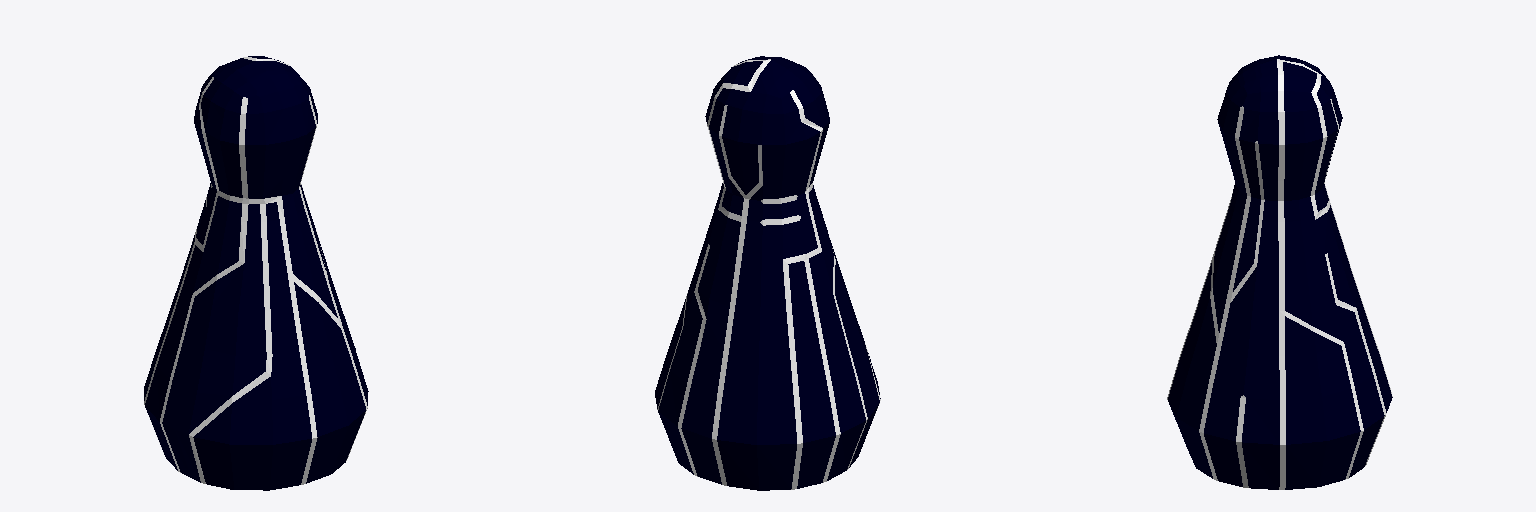
File: chipwhite.obj
3 views of the same model, side by side, from view 1: azimuth 30°, elevation 25°; view 2: azimuth 150°, elevation 25°; view 3: azimuth 270°, elevation 25° (orthographic).
Parts seen in each view (by area): view 1: white_Куб.040; view 2: white_Куб.040; view 3: white_Куб.040.
Part boxes in pixels (left/top/right/bottom): white_Куб.040: left=144, top=56, right=368, bottom=490; white_Куб.040: left=655, top=56, right=880, bottom=490; white_Куб.040: left=1167, top=55, right=1392, bottom=489.
Size of the model in its own units: 0.2361 by 0.4544 by 0.2366.